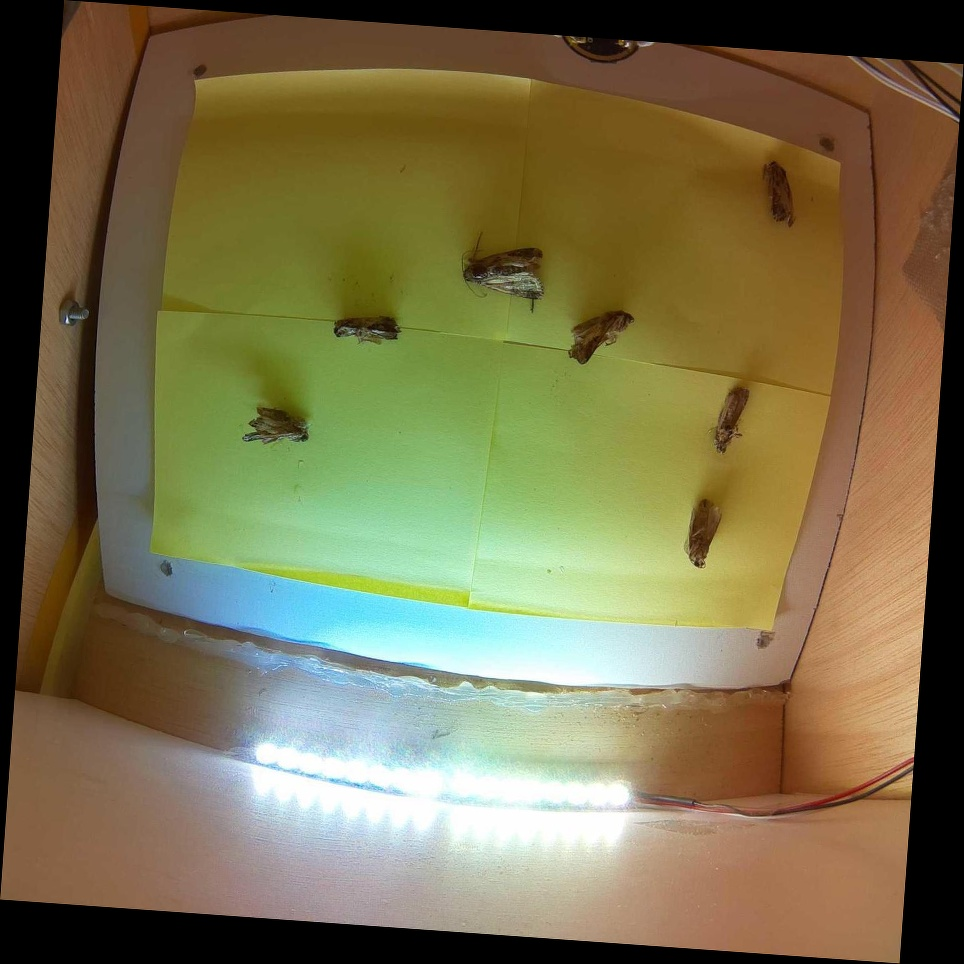Spodoptera litura: (461, 233, 545, 313), (569, 310, 633, 366), (241, 407, 314, 447), (713, 384, 750, 455), (760, 161, 798, 227), (688, 498, 721, 569), (332, 314, 402, 347)
